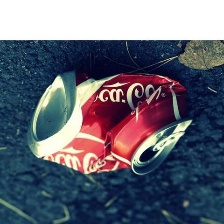can: (23, 60, 198, 177)
